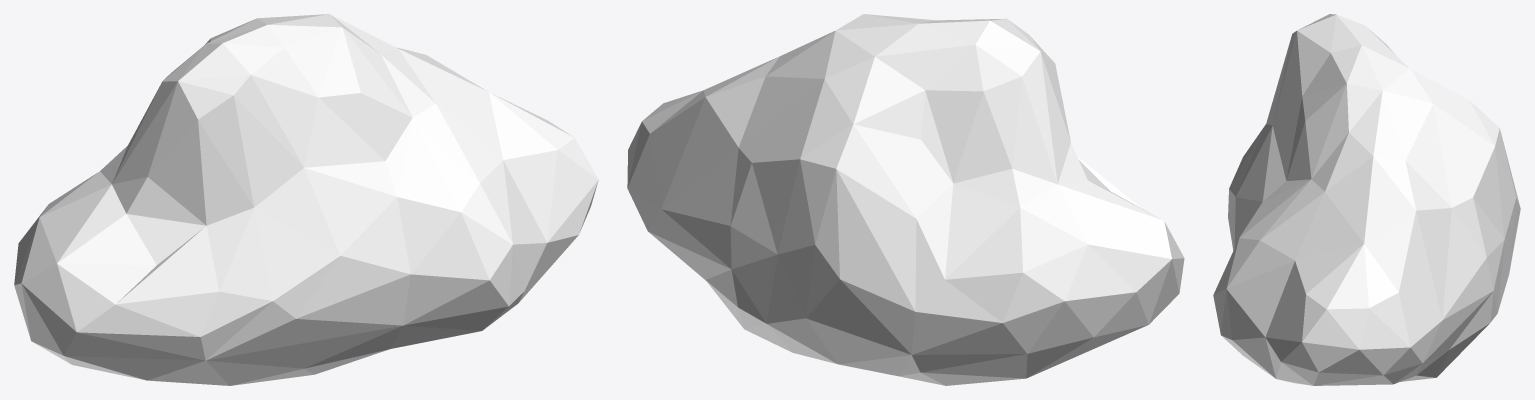
The model's file is cloud1.fbx.
3 views of the same model, side by side, from view 1: azimuth 30°, elevation 25°; view 2: azimuth 150°, elevation 25°; view 3: azimuth 270°, elevation 25° (orthographic). The views are drawn at different scales.
Parts seen in each view (by area): view 1: Cloud_02; view 2: Cloud_02; view 3: Cloud_02.
Boxes of the visible parts, x1=… form: Cloud_02: x1=14, y1=14, x2=598, y2=385; Cloud_02: x1=627, y1=14, x2=1184, y2=385; Cloud_02: x1=1213, y1=14, x2=1520, y2=385.
Bounding box in the file's own units: 216 × 126 × 120.
